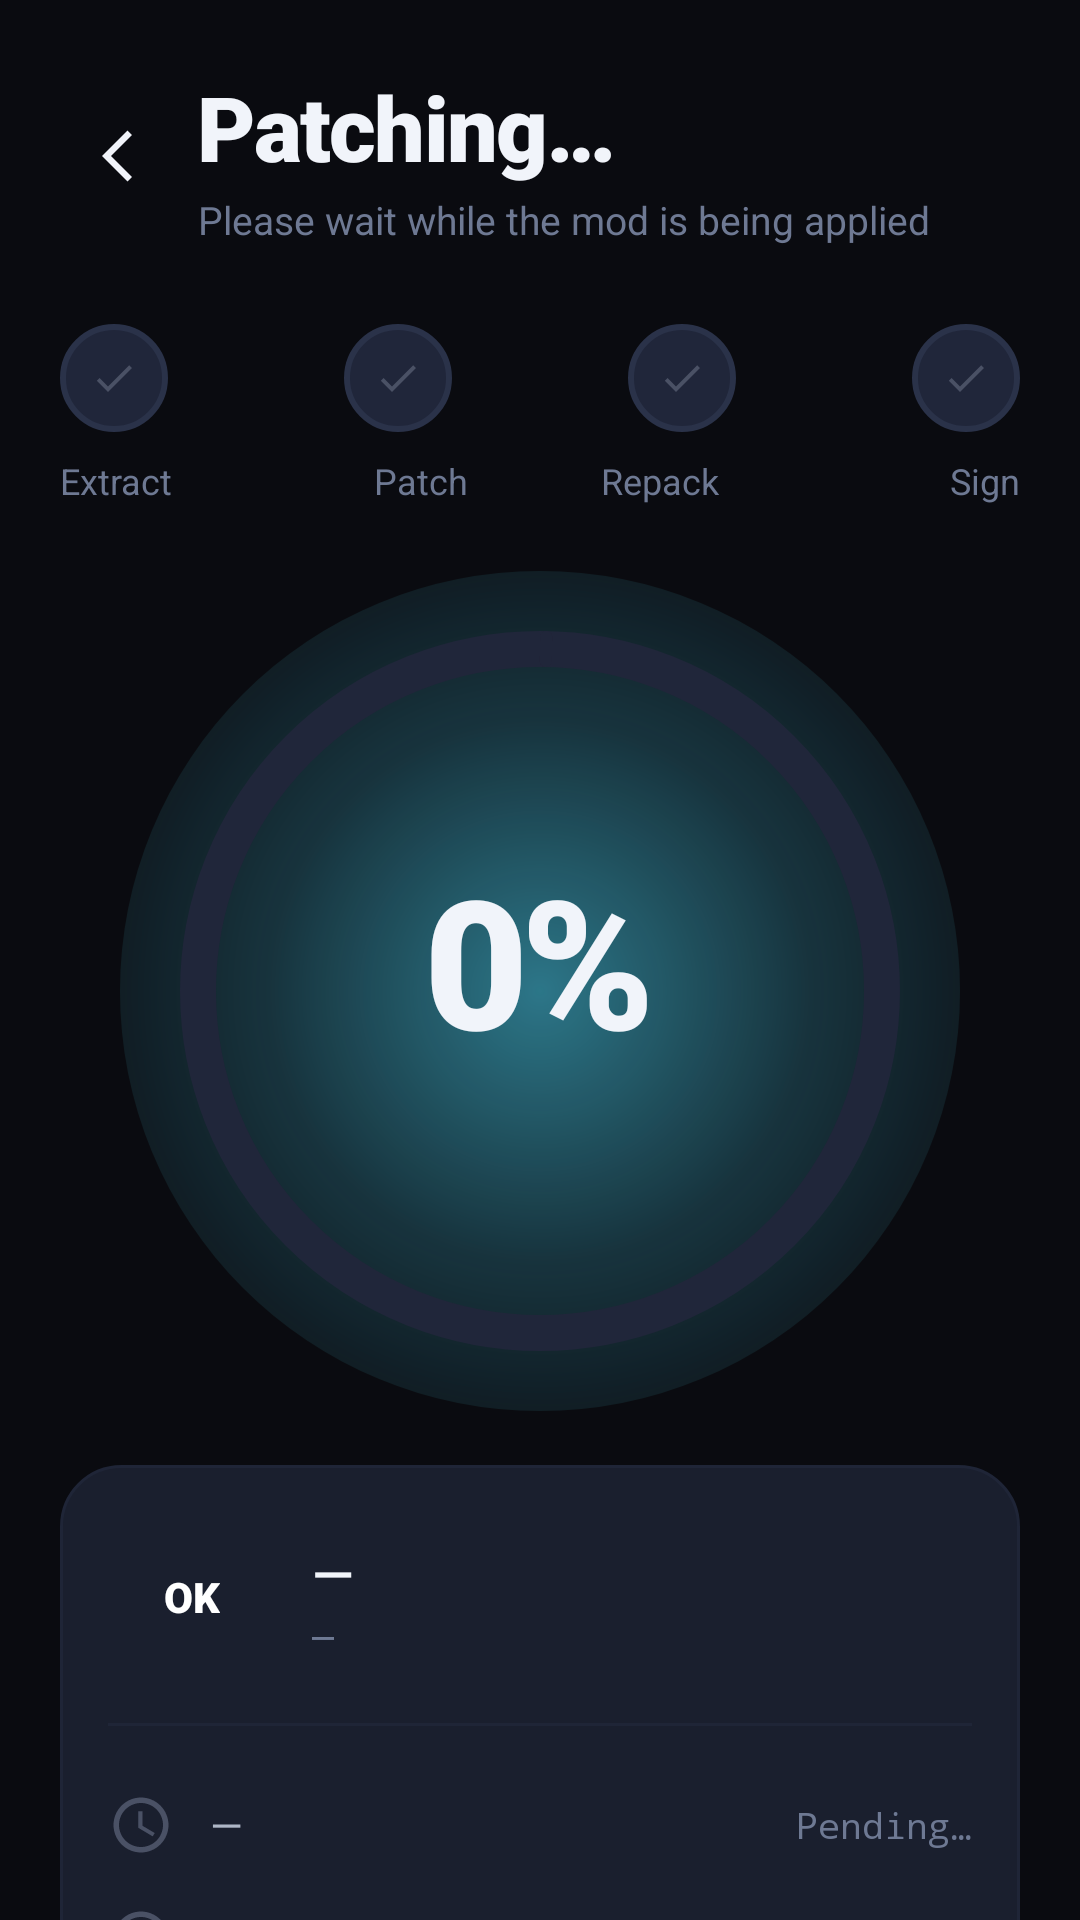

Screen size 1080 x 1920. Icon name, then its box in pixels as (x1, y1, x2, y2):
back: (102, 130, 132, 182)
step pending: (60, 324, 168, 432), (344, 324, 452, 432), (628, 324, 736, 432), (912, 324, 1020, 432)
